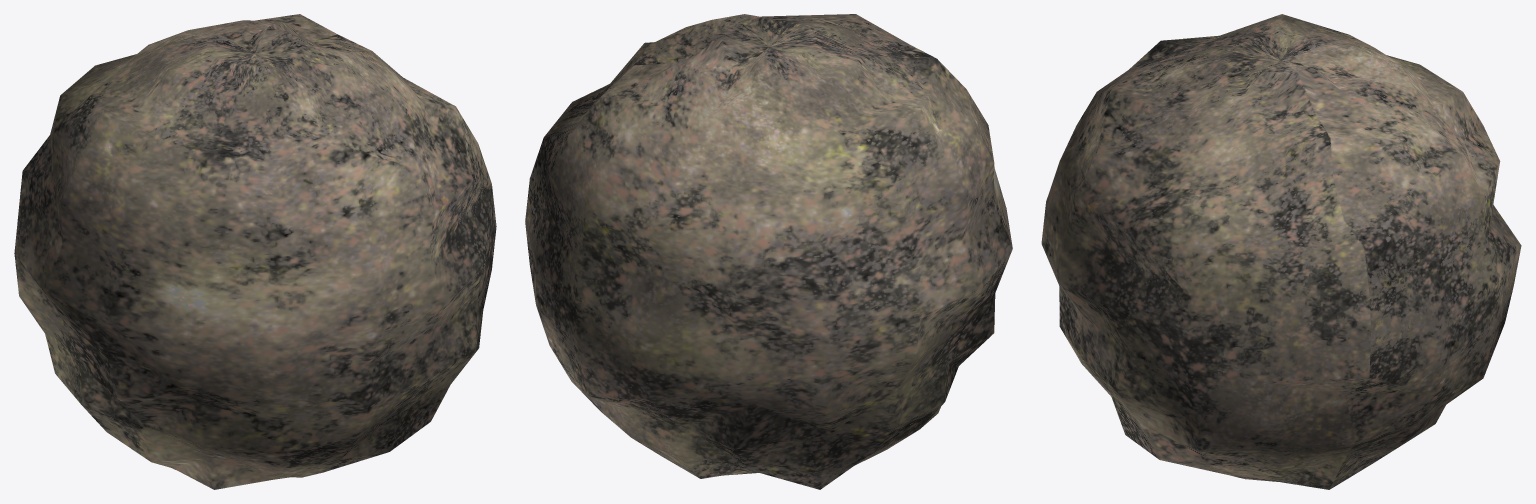
Rendered from iwa_T.fbx.
The picture shows the model from 3 angles, left to right: view 1: azimuth 30°, elevation 25°; view 2: azimuth 150°, elevation 25°; view 3: azimuth 270°, elevation 25°; orthographic projection. The views are drawn at different scales.
Visible parts, largest first — view 1: pSphere1; view 2: pSphere1; view 3: pSphere1.
Boxes of the visible parts, x1=… form: pSphere1: x1=14, y1=14, x2=496, y2=489; pSphere1: x1=525, y1=14, x2=1012, y2=489; pSphere1: x1=1041, y1=14, x2=1521, y2=489.
Bounding box in the file's own units: 11.7 × 11.26 × 12.08.
1 material, 1 textured.
